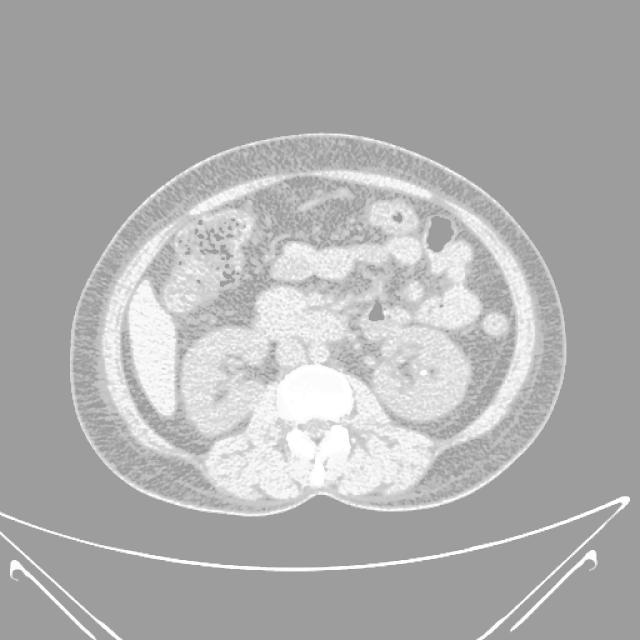STONE: (346, 182, 550, 399)
